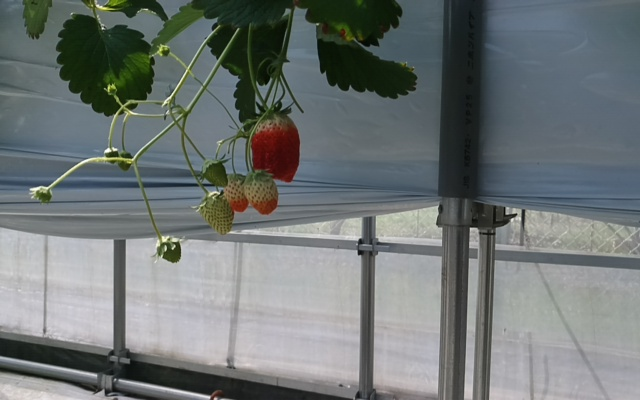GreenStrawberry: (196, 191, 236, 236), (246, 174, 281, 217), (150, 232, 184, 267), (225, 174, 252, 214), (199, 160, 229, 190)
MatureStrawberry: (244, 104, 303, 184)
